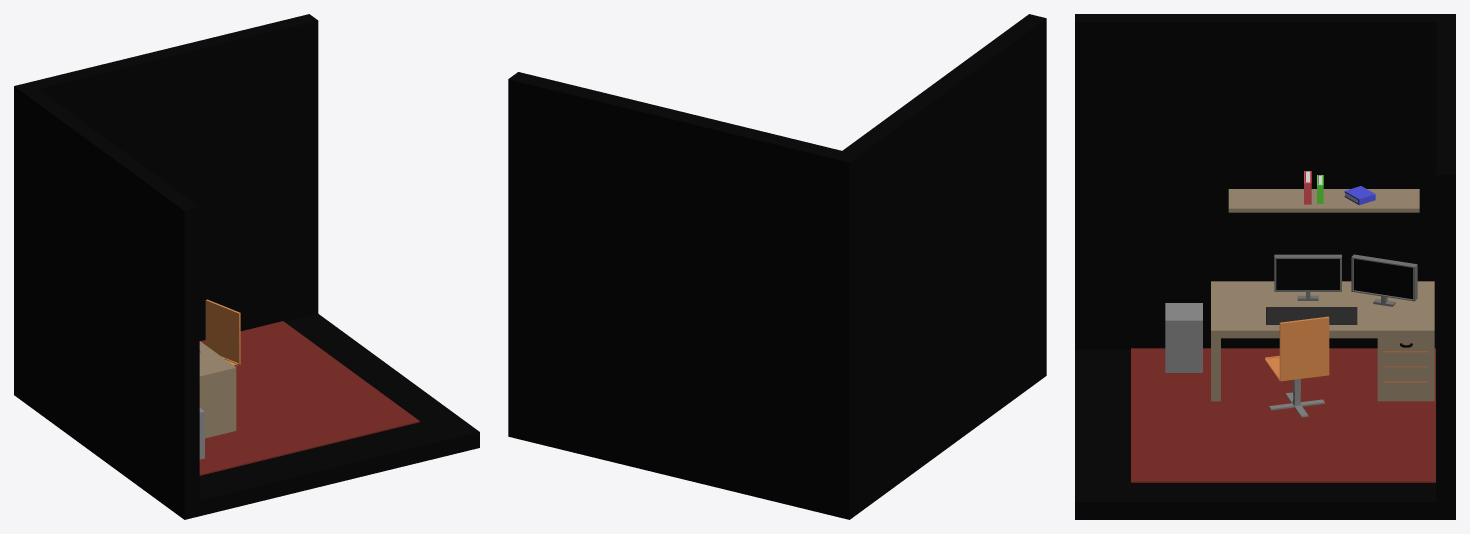
Rendered from room.glb.
The picture shows the model from 3 angles, left to right: view 1: azimuth 30°, elevation 25°; view 2: azimuth 150°, elevation 25°; view 3: azimuth 270°, elevation 25°; orthographic projection. The views are drawn at different scales.
Visible parts, largest first — view 1: Cube, Plane, Cube.001, Cube.005; view 2: Cube; view 3: Cube, Plane, Cube.001, Cube.004, Cube.005, Cube.002, Cube.003, Cube.006, Plane.004.
Boxes of the visible parts, <box> form: Cube: <box>14,14,479,519</box>; Plane: <box>199,321,419,475</box>; Cube.001: <box>199,341,236,438</box>; Cube.005: <box>205,299,240,366</box>; Cube: <box>508,14,1046,519</box>; Cube: <box>1075,14,1455,519</box>; Plane: <box>1131,348,1435,482</box>; Cube.001: <box>1211,281,1434,401</box>; Cube.004: <box>1228,189,1419,212</box>; Cube.005: <box>1265,316,1329,417</box>; Cube.002: <box>1274,254,1341,300</box>; Cube.003: <box>1351,254,1417,306</box>; Cube.006: <box>1165,303,1202,372</box>; Plane.004: <box>1266,307,1357,324</box>.
Size of the model in its own units: 6.68 by 6.68 by 6.68.
